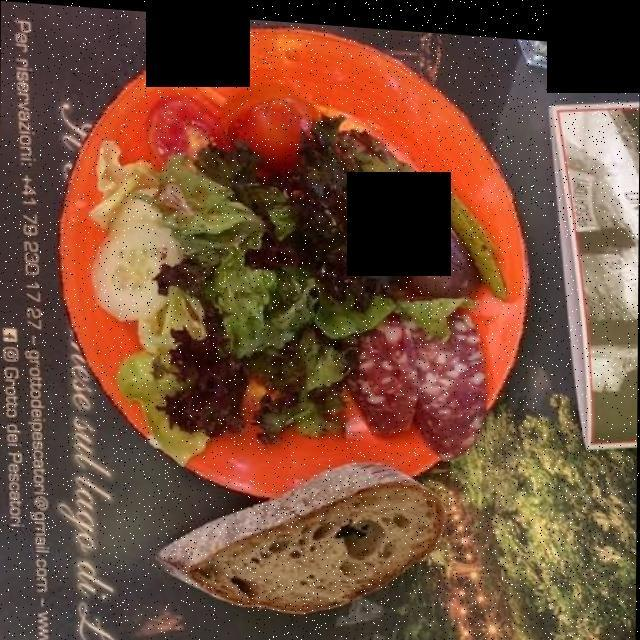bread: (171, 464, 438, 603)
cucumber: (74, 184, 182, 328)
cucumber-pickled: (419, 158, 513, 295)
onion: (384, 201, 481, 298)
salad: (112, 106, 450, 453)
salami: (352, 293, 498, 450)
tomato: (128, 65, 331, 168)
